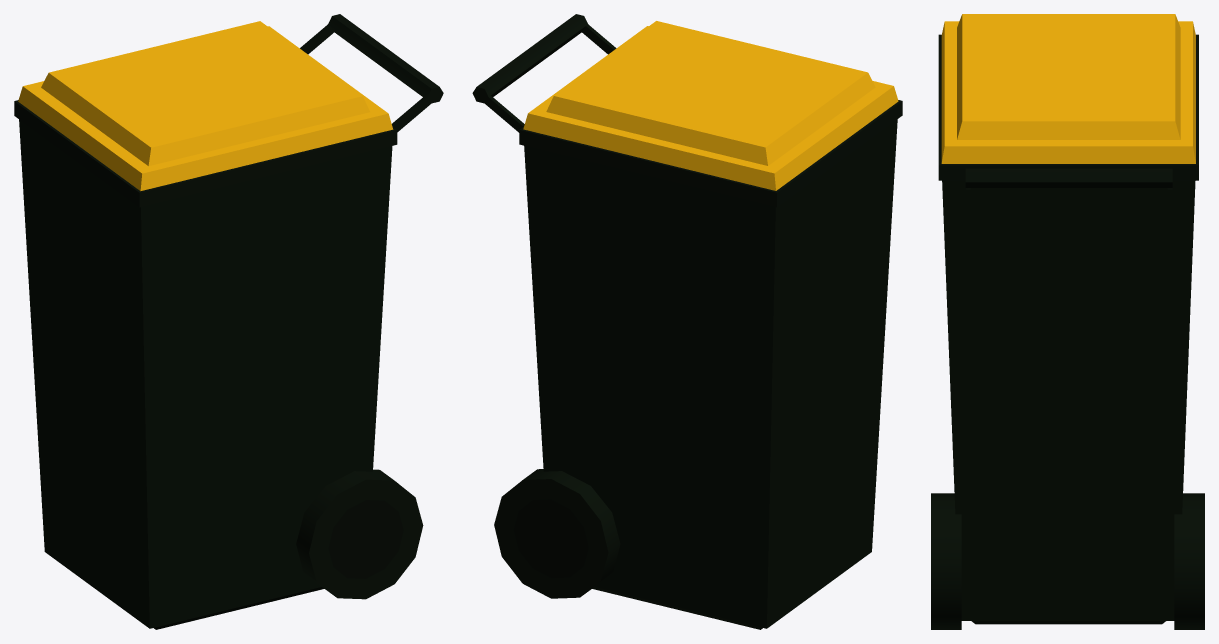
Rendered from Poubelle 1.FBX.
3 renders of one model, left to right at view 1: azimuth 30°, elevation 25°; view 2: azimuth 150°, elevation 25°; view 3: azimuth 270°, elevation 25°, orthographic. The views are drawn at different scales.
Parts seen in each view (by area): view 1: Box001; view 2: Box001; view 3: Box001.
Boxes of the visible parts, x1,y1,x2,y2 form: Box001: [14, 14, 443, 629]; Box001: [472, 14, 902, 629]; Box001: [931, 14, 1204, 629].
Size of the model in its own units: 46.88 by 69.14 by 33.72.
